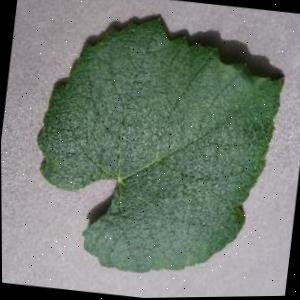Folha: (21, 0, 295, 291)
